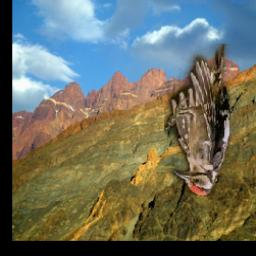Woodpecker: (165, 44, 232, 195)
